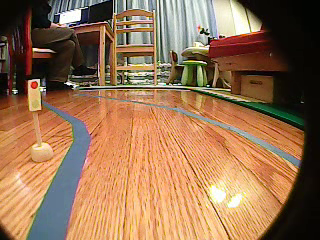Red Traffic Light: (26, 79, 46, 111)
